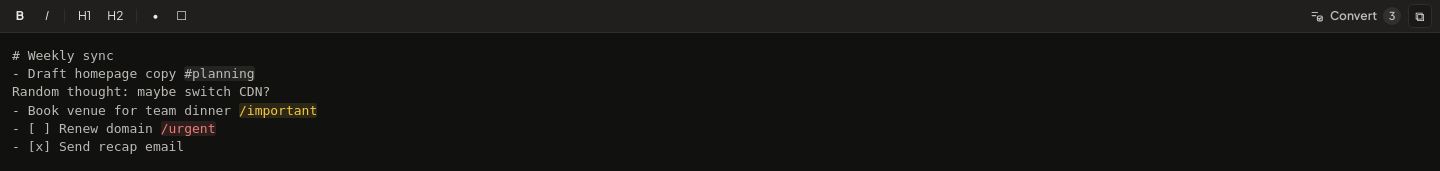
it: Convert button › its tooltip names the Alt+T shortcut (Win32)
Hover over the button "Convert 3" at {"x": 1354, "y": 16}, box [1303,4,1406,28]
Wait 500 ms
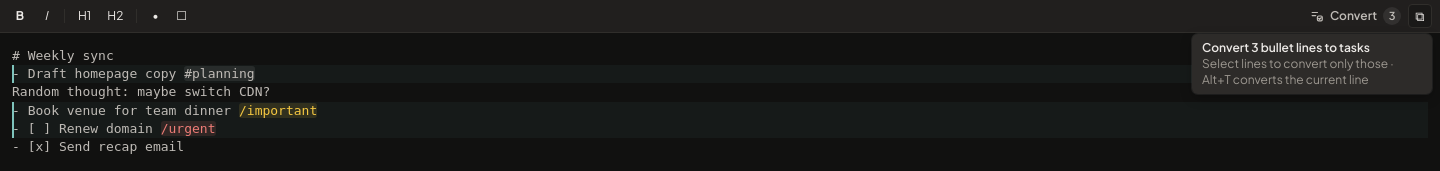
Expected: the tooltip shows "Alt+T converts the current line", [1202,56,1394,87]
